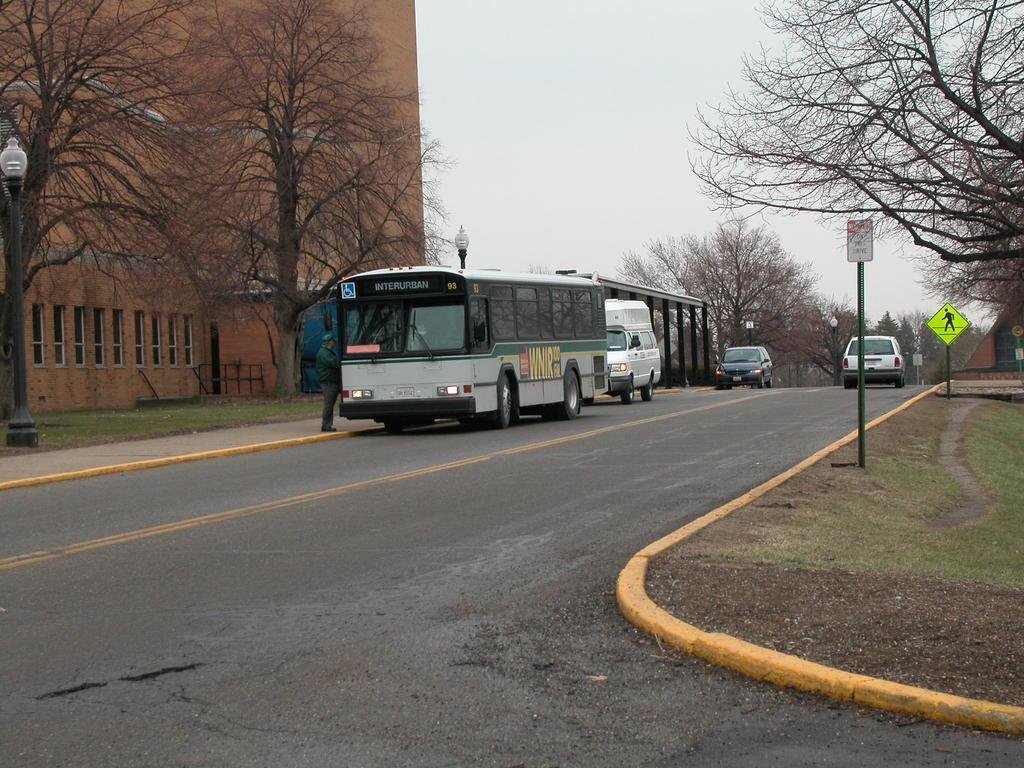vehicle: (321, 264, 608, 428), (600, 297, 663, 402), (843, 334, 907, 388), (714, 346, 774, 389)
